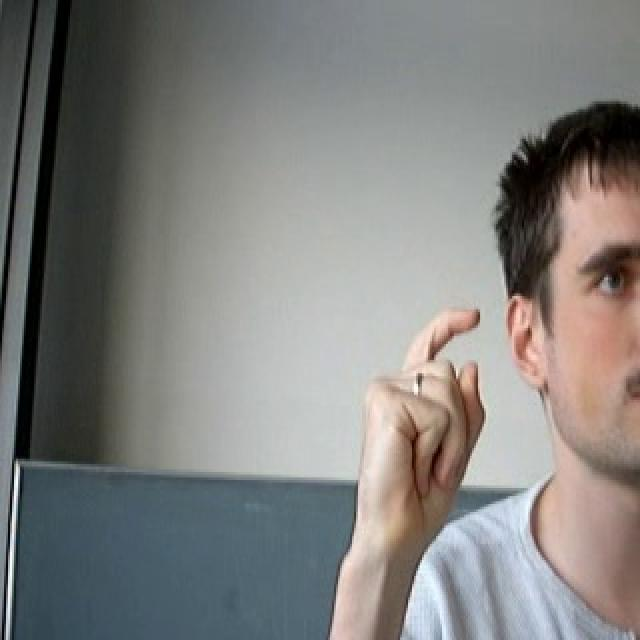X: (317, 280, 527, 546)
